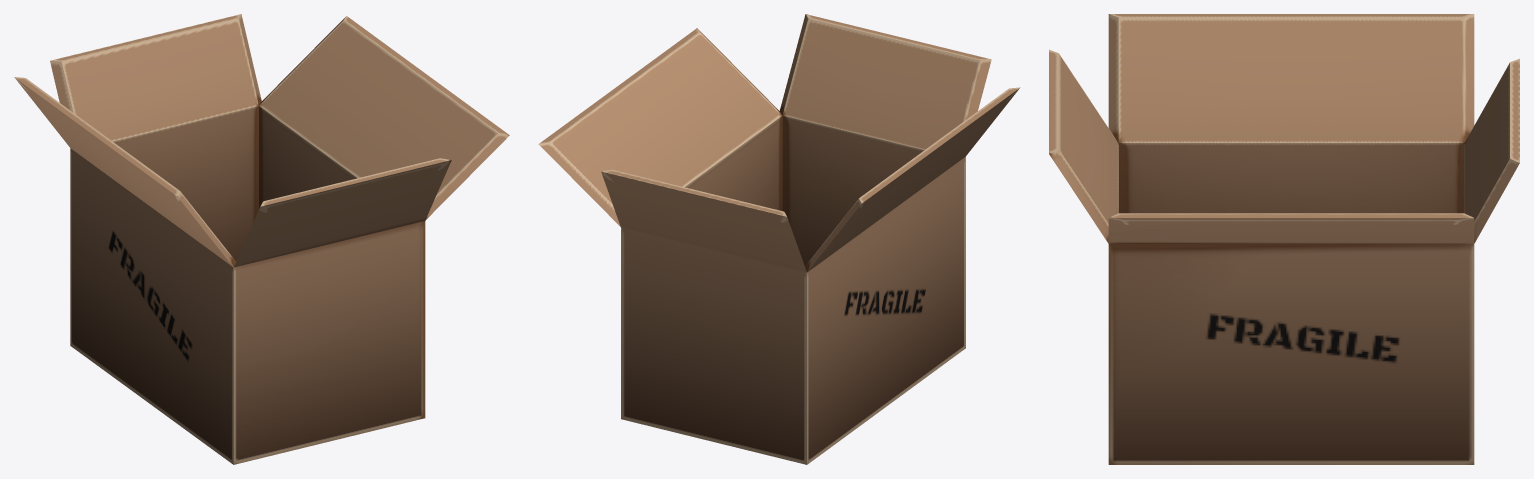
The model's file is box_open.fbx.
The picture shows the model from 3 angles, left to right: view 1: azimuth 30°, elevation 25°; view 2: azimuth 150°, elevation 25°; view 3: azimuth 270°, elevation 25°; orthographic projection. The views are drawn at different scales.
Parts seen in each view (by area): view 1: box_open; view 2: box_open; view 3: box_open.
Boxes of the visible parts, left/top/right/bottom form: box_open: left=14, top=14, right=509, bottom=464; box_open: left=538, top=14, right=1020, bottom=464; box_open: left=1049, top=14, right=1519, bottom=464.
Size of the model in its own units: 106 by 86.01 by 116.
